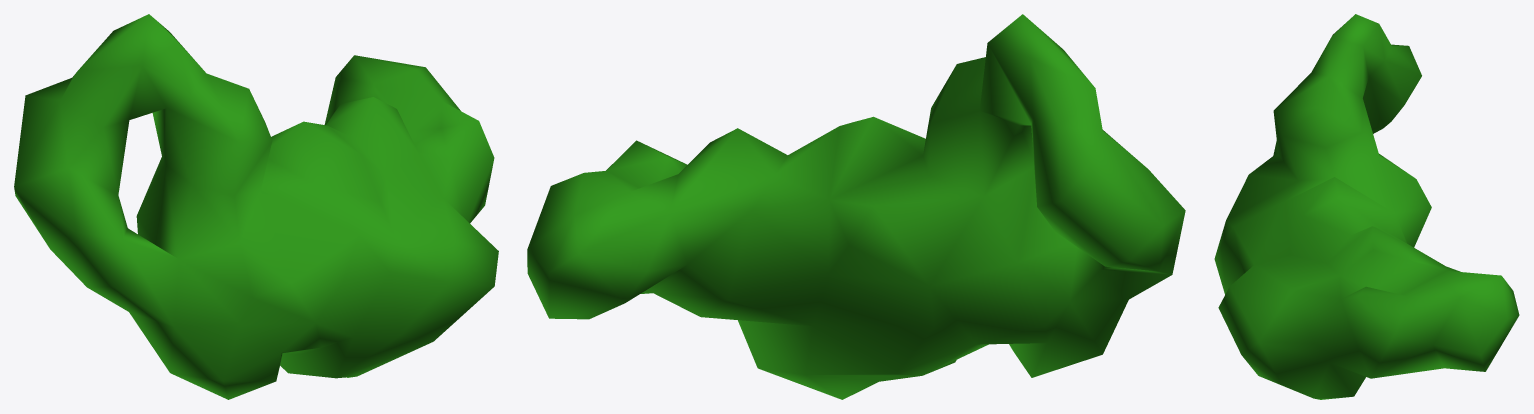
File: HIV1_NEFsol_Hyb_0_2_1.dae
3 renders of one model, left to right at view 1: azimuth 30°, elevation 25°; view 2: azimuth 150°, elevation 25°; view 3: azimuth 270°, elevation 25°, orthographic. The views are drawn at different scales.
Parts seen in each view (by area): view 1: CoarseMS_nefStef_1; view 2: CoarseMS_nefStef_1; view 3: CoarseMS_nefStef_1.
Boxes of the visible parts, x1,y1,x2,y2 form: CoarseMS_nefStef_1: (14,14,498,399); CoarseMS_nefStef_1: (527,14,1185,399); CoarseMS_nefStef_1: (1214,14,1519,399).
Bounding box in the file's own units: 78.52 × 60.5 × 52.89.
